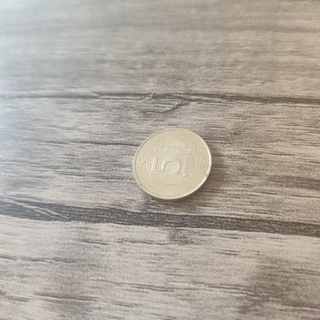5KURUS: (131, 126, 214, 201)
